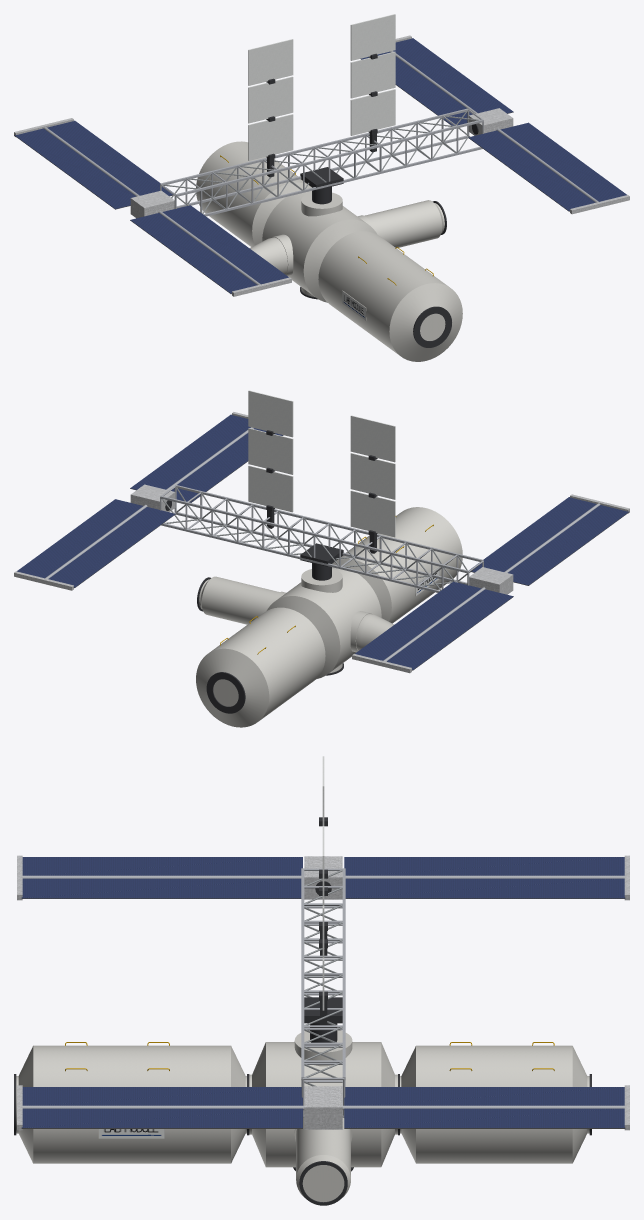
File: space_center.glb
The picture shows the model from 3 angles, top to bottom: view 1: azimuth 30°, elevation 25°; view 2: azimuth 150°, elevation 25°; view 3: azimuth 270°, elevation 25°; orthographic projection. The views are drawn at different scales.
Parts seen in each view (by area): view 1: Solar array blankets, Modules, Radiators, Truss and pylon, Central node, Solar array masts and boxes, Berthing rings and hatches, Docking adapter; view 2: Solar array blankets, Modules, Radiators, Truss and pylon, Central node, Solar array masts and boxes, Berthing rings and hatches, Docking adapter; view 3: Solar array blankets, Modules, Solar array masts and boxes, Central node, Truss and pylon, Radiators, Berthing rings and hatches, Module labels.
Boxes of the visible parts, x1,y1,x2,y2 form: Solar array blankets: (14,38,626,294); Modules: (196,141,462,361); Radiators: (248,14,395,177); Truss and pylon: (160,108,483,216); Central node: (262,191,377,302); Solar array masts and boxes: (14,35,629,296); Berthing rings and hatches: (300,201,451,347); Docking adapter: (249,237,287,274); Solar array blankets: (17,414,629,670); Modules: (196,507,462,727); Radiators: (248,390,395,553); Truss and pylon: (160,485,483,592); Central node: (266,567,381,678); Solar array masts and boxes: (14,412,629,673); Berthing rings and hatches: (197,577,343,713); Docking adapter: (356,614,393,650); Solar array blankets: (21,857,625,1128); Modules: (16,1045,589,1202); Solar array masts and boxes: (17,855,629,1130); Central node: (249,1030,397,1167); Truss and pylon: (301,868,345,1117); Radiators: (319,756,327,1025); Berthing rings and hatches: (14,1074,591,1205); Module labels: (98,1129,164,1138).
Size of the model in its own units: 23.34 by 14.44 by 22.42.
10 materials, 10 textured.
